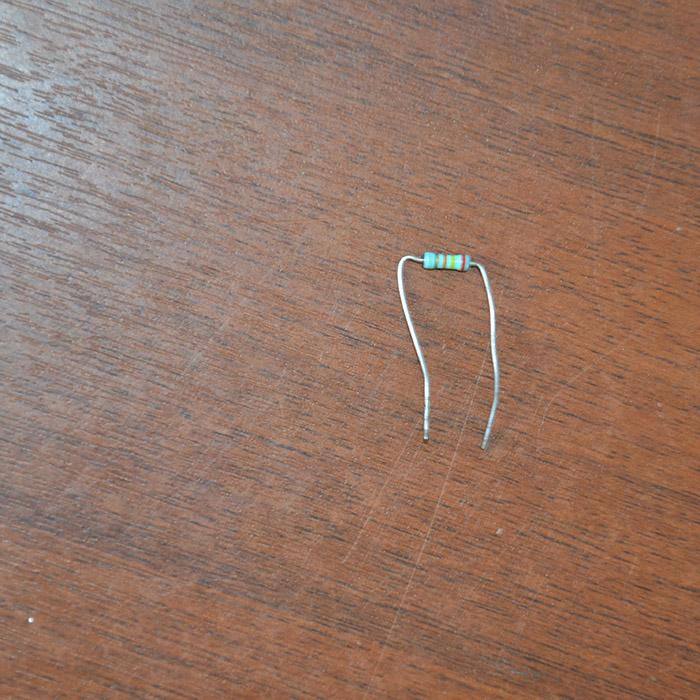resistor: (422, 251, 470, 271)
